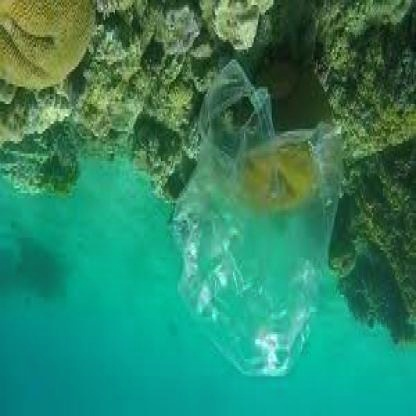pbag: (166, 54, 347, 374)
